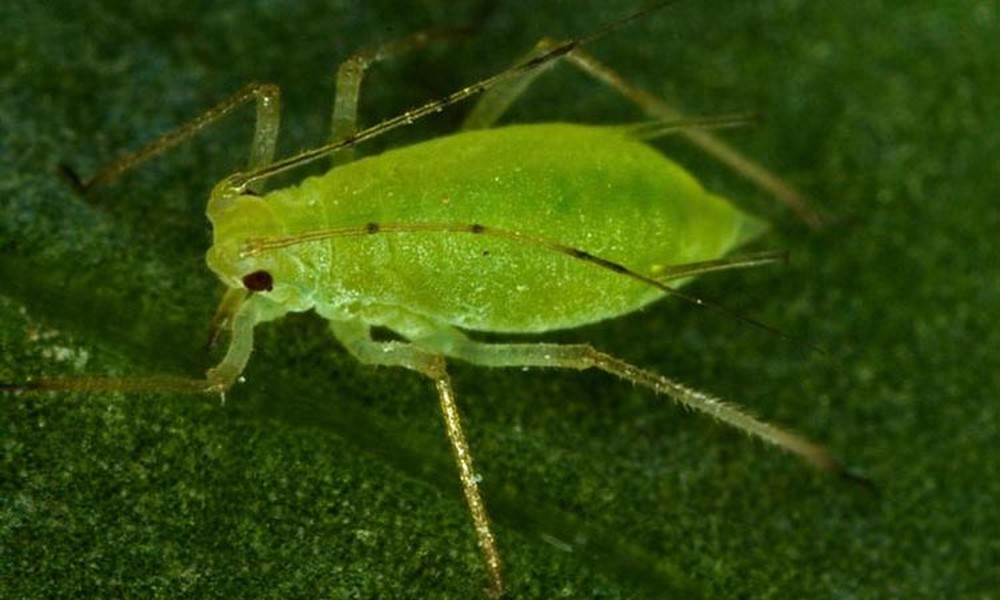Pulgon: (82, 19, 889, 566)
